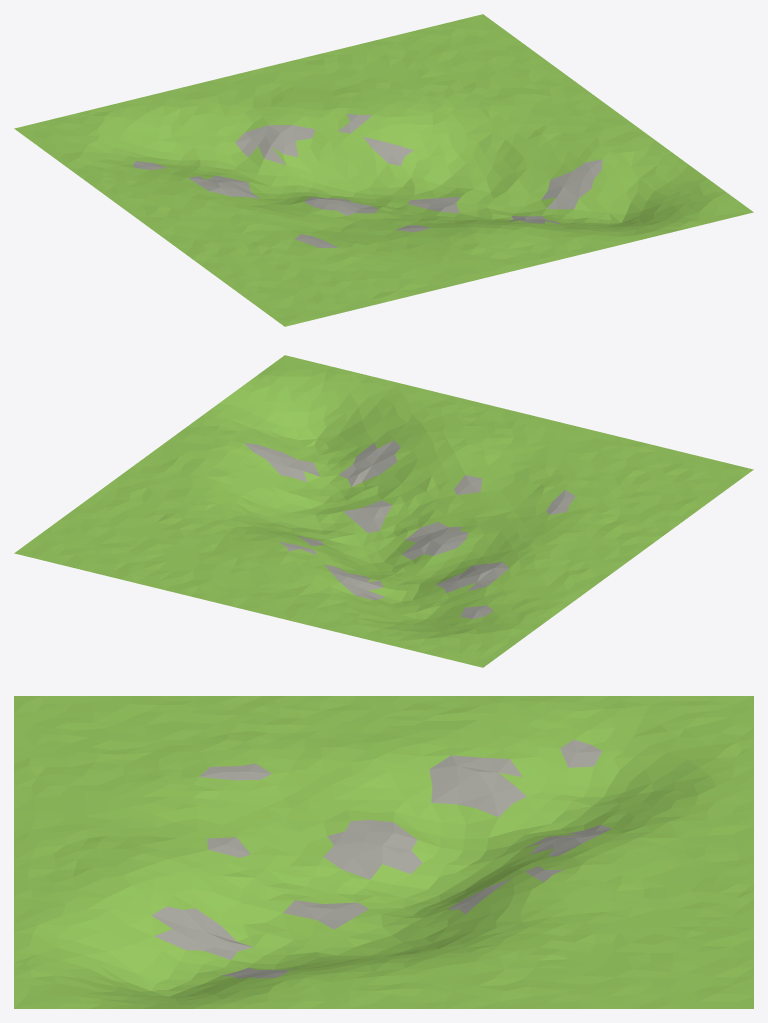
File: terrain_l_c_15.glb
3 views of the same model, one above another, from view 1: azimuth 30°, elevation 25°; view 2: azimuth 150°, elevation 25°; view 3: azimuth 270°, elevation 25° (orthographic). The views are drawn at different scales.
Parts seen in each view (by area): view 1: CPT_Terrain_L_c_15; view 2: CPT_Terrain_L_c_15; view 3: CPT_Terrain_L_c_15.
Part boxes in pixels (x1=…): CPT_Terrain_L_c_15: x1=14, y1=14, x2=753, y2=326; CPT_Terrain_L_c_15: x1=14, y1=355, x2=753, y2=667; CPT_Terrain_L_c_15: x1=14, y1=696, x2=753, y2=1008.
Size of the model in its own units: 100 by 7.76 by 100.
1 material, 1 textured.
